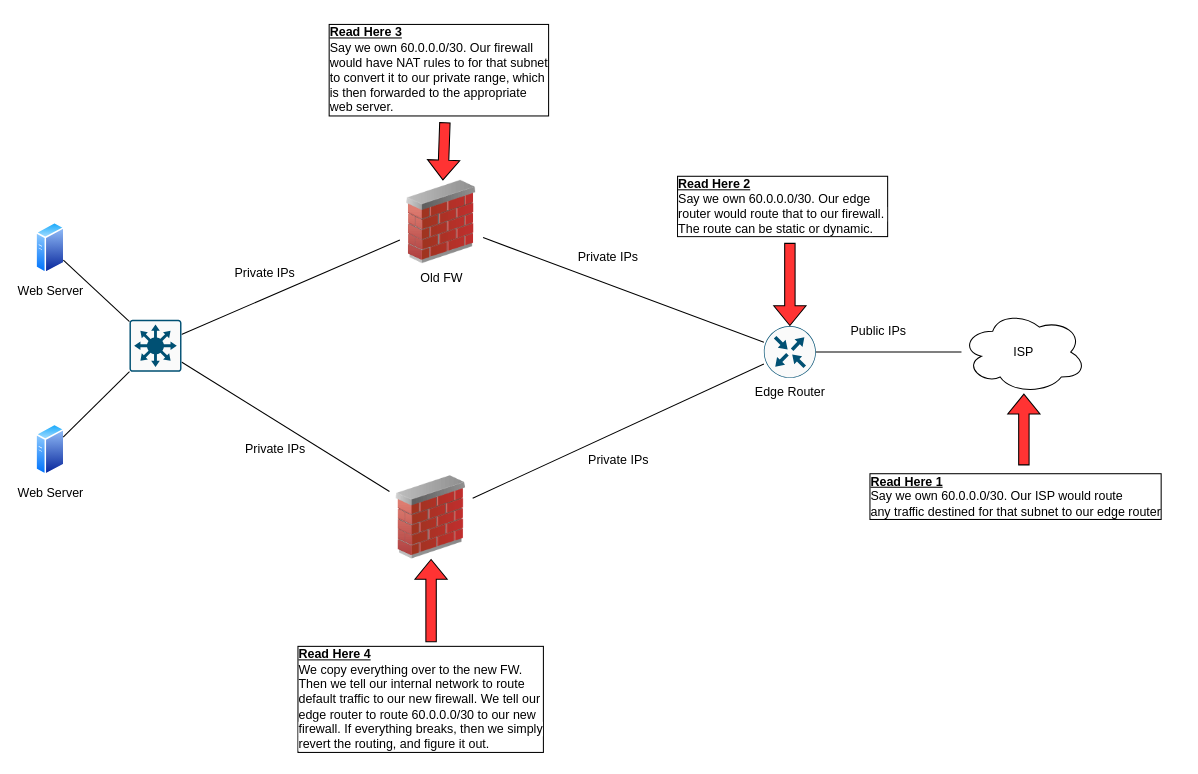
This 1198x774 diagram has some shape labels left out. Here are the shapes that lost their labels. From the top down, the centre of each, then its label:
(154,345): Internal Network
(430,516): New FW
